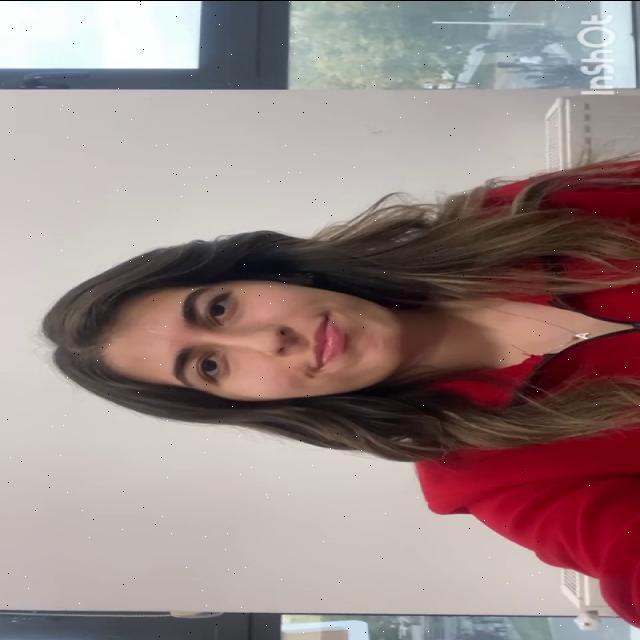happy: (97, 267, 411, 407)
